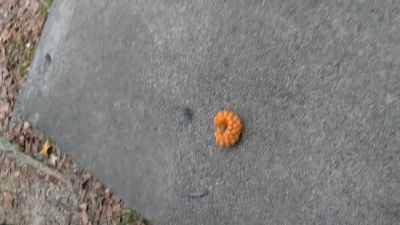eggs: (211, 108, 244, 149)
